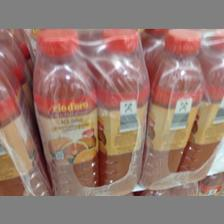Saft: (31, 29, 101, 190), (140, 30, 204, 186), (96, 29, 152, 185)
